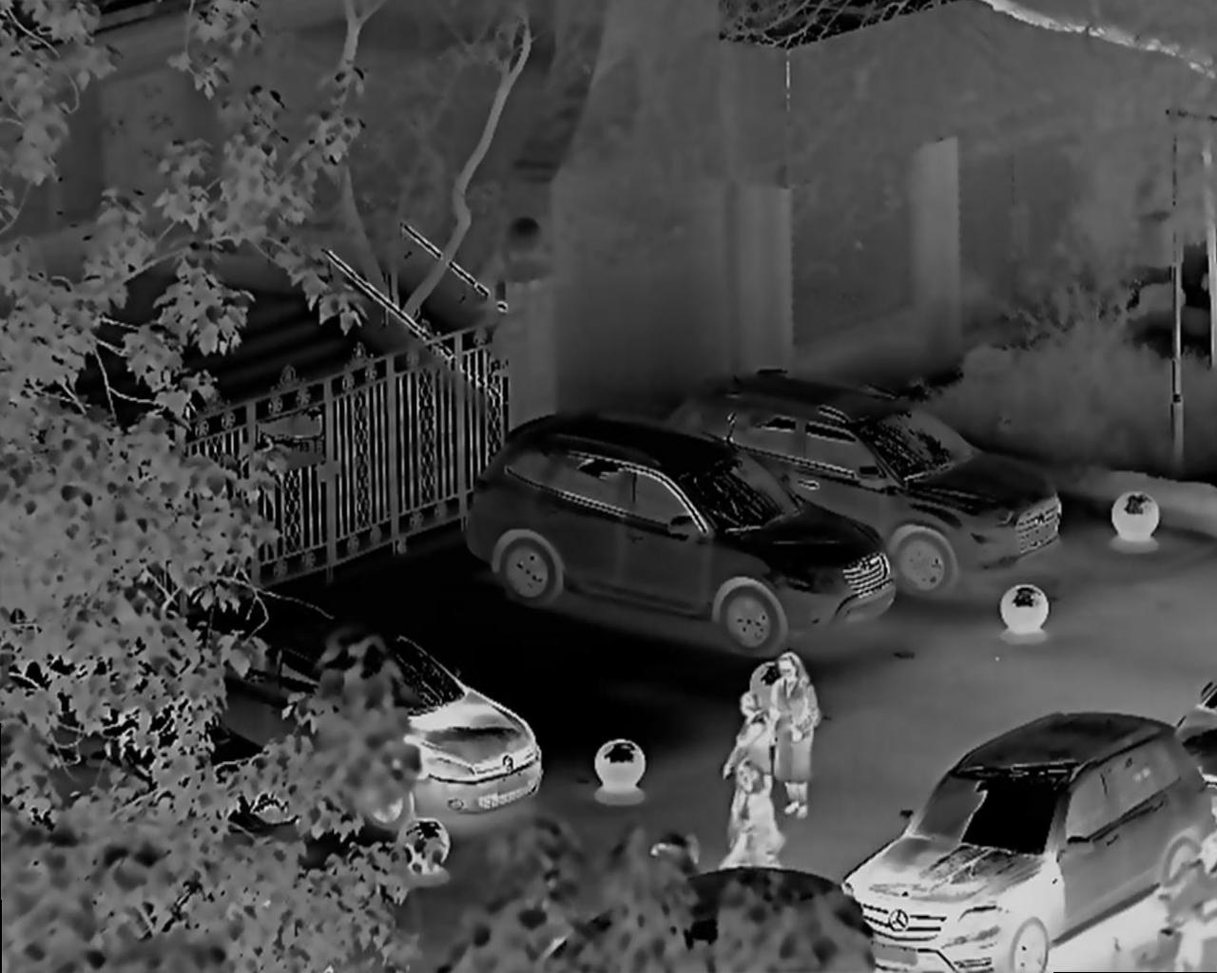person: (764, 652, 821, 820), (1157, 830, 1217, 972), (723, 687, 779, 838), (727, 754, 768, 895)
